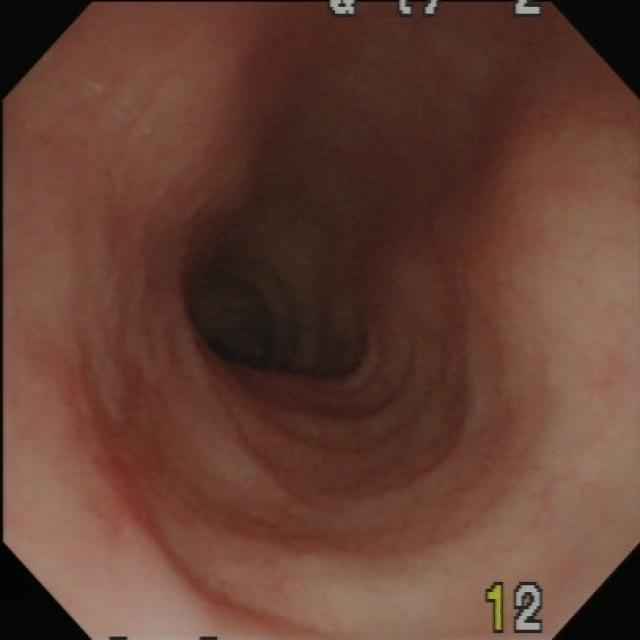A: (62, 354, 264, 537)
E: (176, 224, 364, 402)
S: (325, 3, 545, 20), (485, 581, 547, 636)
